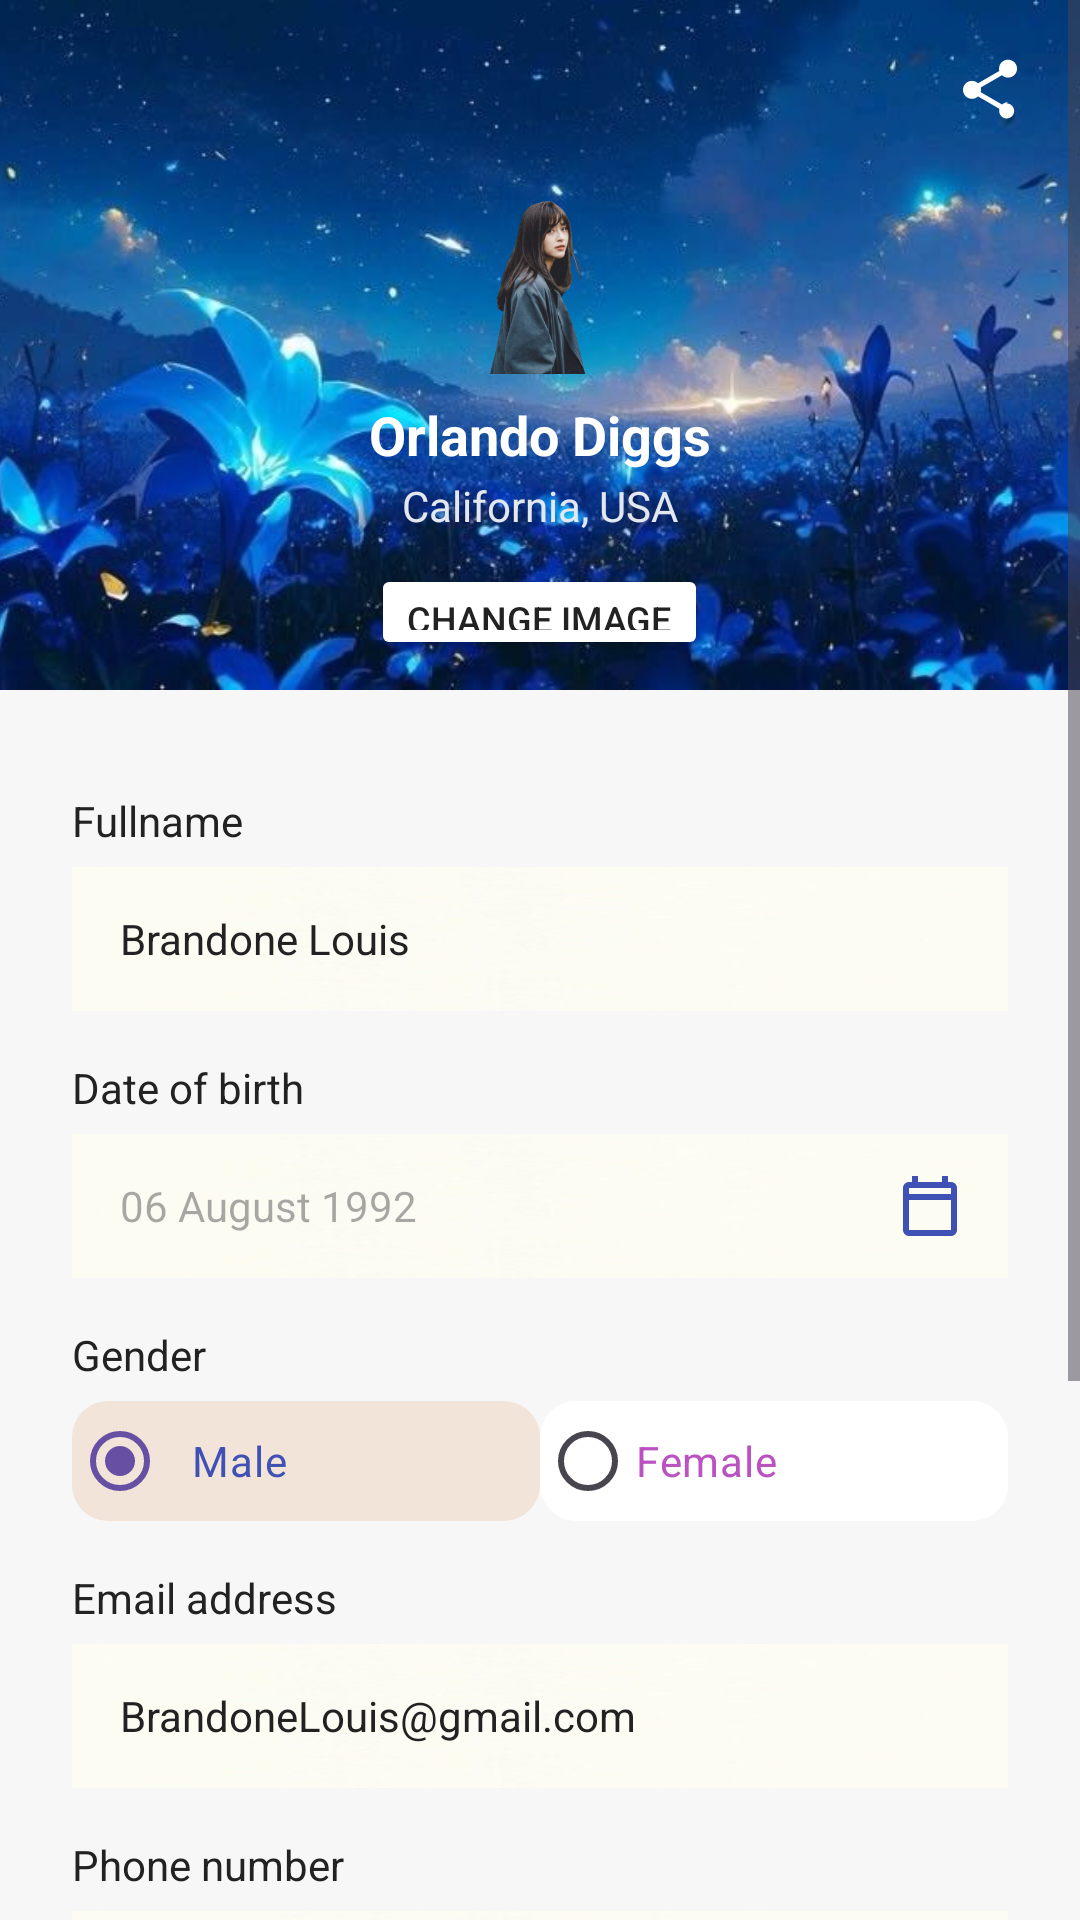

Point at icon controls on the screen. Image size 1080 x 1920, points as (x,y).
calendar: (930,1206)
share: (990,91)
